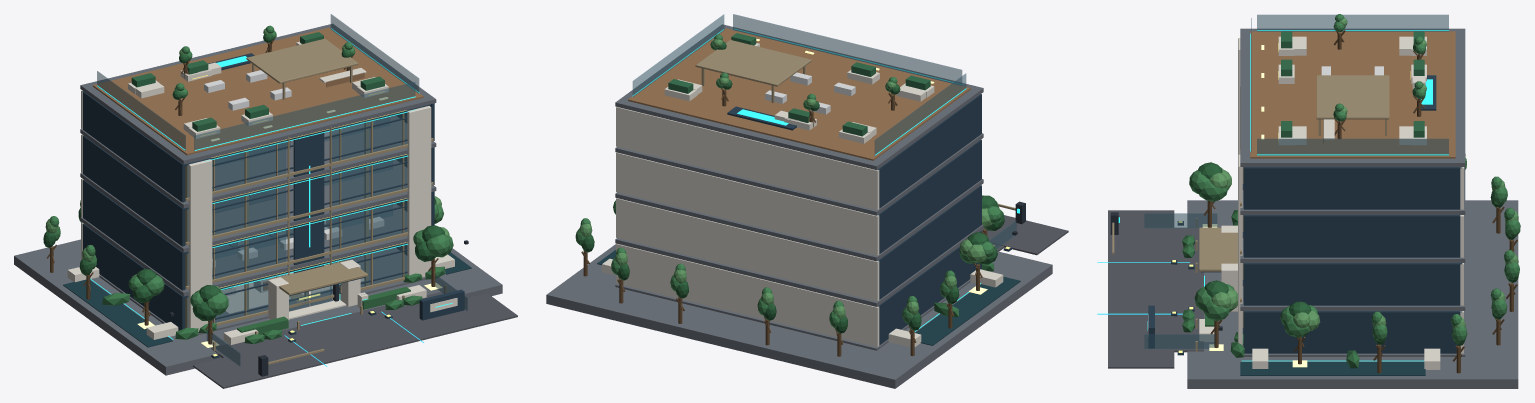
The model's file is trinity-company.glb.
The picture shows the model from 3 angles, left to right: view 1: azimuth 30°, elevation 25°; view 2: azimuth 150°, elevation 25°; view 3: azimuth 270°, elevation 25°; orthographic projection. The views are drawn at different scales.
Parts seen in each view (by area): view 1: Rooftop_Deck, Site_Podium, Arrival_Drive, Slab_03, Slab_02, Slab_01, Slab_04, Floor_03_LeftWall, Floor_04_LeftWall, Floor_02_LeftWall, Rooftop, Facade_NavySpine (+37 smaller); view 2: Site_Podium, Rooftop_Deck, Floor_03_BackWall, Floor_02_BackWall, Floor_04_BackWall, Floor_01_BackWall, Slab_04, Floor_02_LeftWall, Floor_03_LeftWall, Floor_04_LeftWall, Rooftop, Rooftop_GlassRail_Front (+19 smaller); view 3: Rooftop_Deck, Site_Podium, Arrival_Drive, Floor_04_RightWall, Floor_03_RightWall, Floor_02_RightWall, Floor_01_RightWall, Slab_04, Rooftop_GlassRail_Right, Rooftop, Rooftop_GlassRail_Left, Rooftop_Pergola_Roof (+22 smaller).
Part boxes in pixels (x1,y1,x2,y2): Rooftop_Deck: (93,27,423,155); Site_Podium: (14,239,502,375); Arrival_Drive: (193,293,517,388); Slab_03: (80,115,436,208); Slab_02: (80,159,436,252); Slab_01: (80,203,408,296); Slab_04: (80,23,436,164); Floor_03_LeftWall: (82,135,185,246); Floor_04_LeftWall: (82,91,185,202); Floor_02_LeftWall: (83,179,185,290); Rooftop: (128,32,388,138); Facade_NavySpine: (293,130,324,273); Site_Podium: (546,244,1052,388); Rooftop_Deck: (628,28,970,160); Floor_03_BackWall: (616,152,879,255); Floor_02_BackWall: (616,198,879,301); Floor_04_BackWall: (616,106,879,210); Floor_01_BackWall: (616,243,879,346); Slab_04: (615,24,983,170); Floor_02_LeftWall: (878,185,981,299); Floor_03_LeftWall: (878,139,981,253); Floor_04_LeftWall: (877,94,981,208); Rooftop: (664,33,934,143); Rooftop_GlassRail_Front: (733,14,962,85); Rooftop_Deck: (1250,31,1455,158); Site_Podium: (1187,200,1518,388); Arrival_Drive: (1108,210,1174,368); Floor_04_RightWall: (1243,167,1462,209); Floor_03_RightWall: (1243,215,1460,257); Floor_02_RightWall: (1243,263,1462,305); Floor_01_RightWall: (1243,311,1462,353); Slab_04: (1240,28,1465,166); Rooftop_GlassRail_Right: (1257,138,1448,155); Rooftop: (1278,31,1426,145); Rooftop_GlassRail_Left: (1257,14,1448,31); Rooftop_Pergola_Roof: (1316,75,1389,119).
Bounding box in the file's own units: 32 × 20.03 × 31.96.
